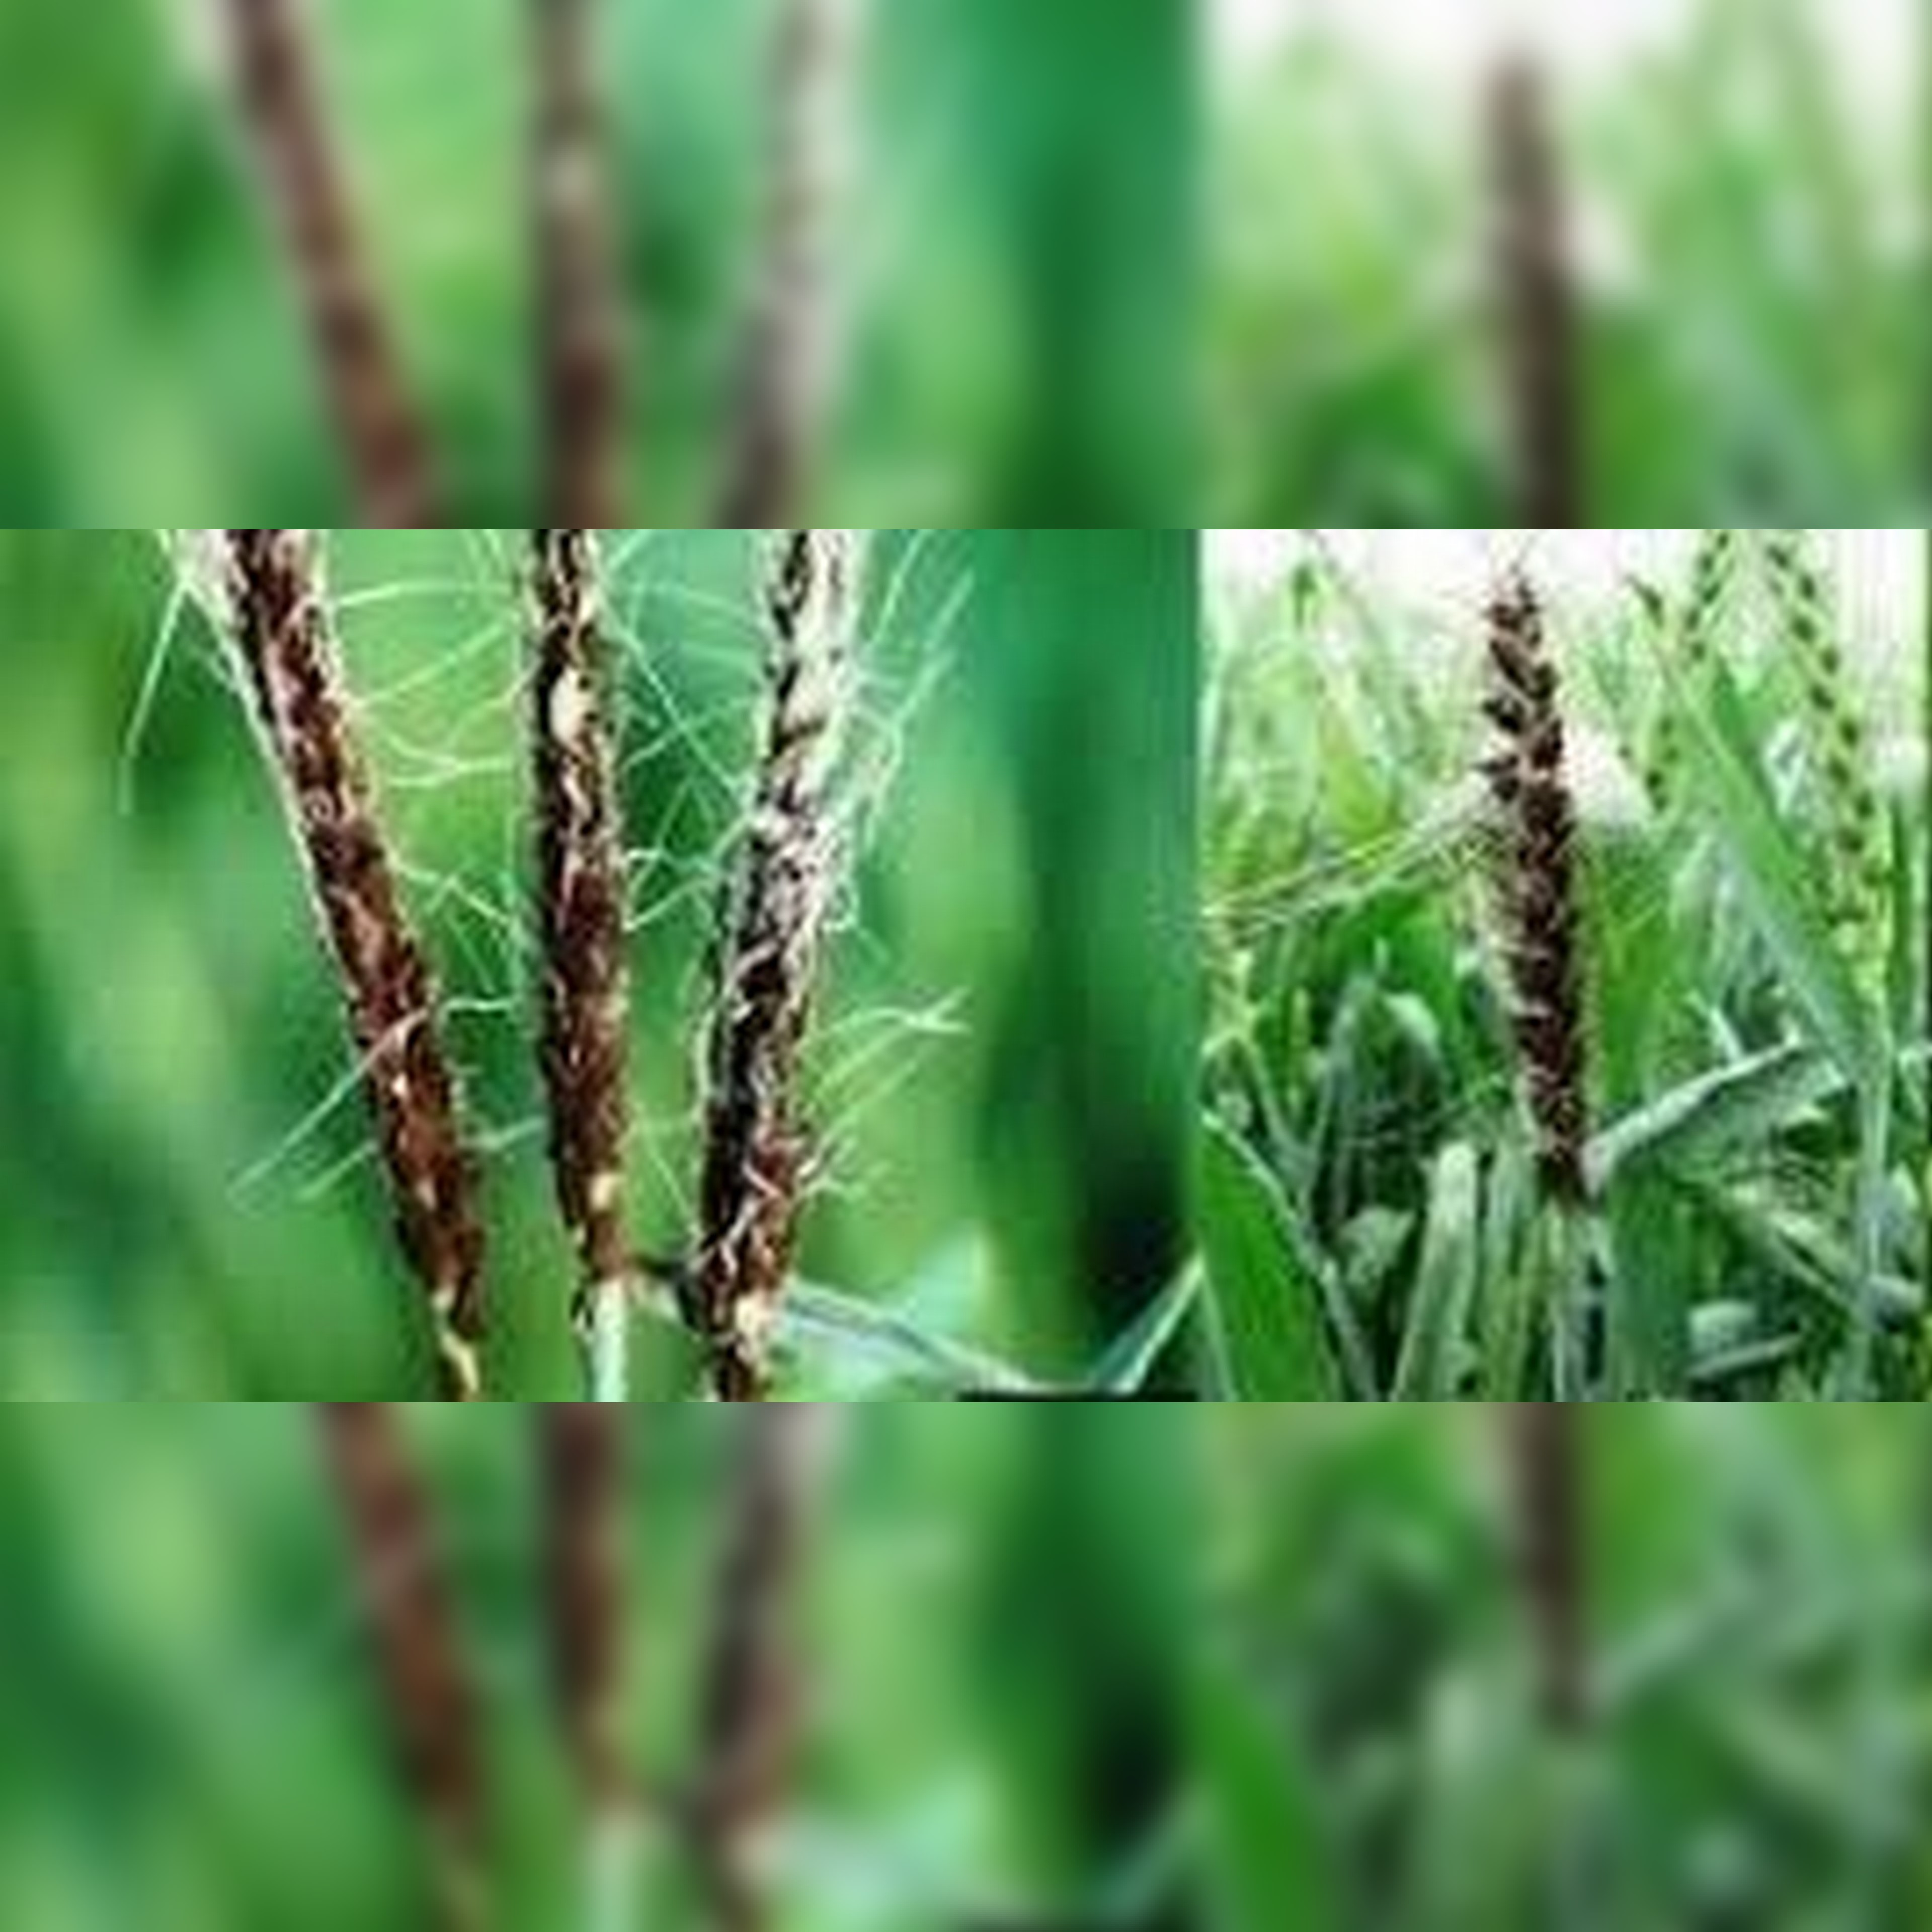Wheat Loose Smut: (221, 561, 899, 1322)
